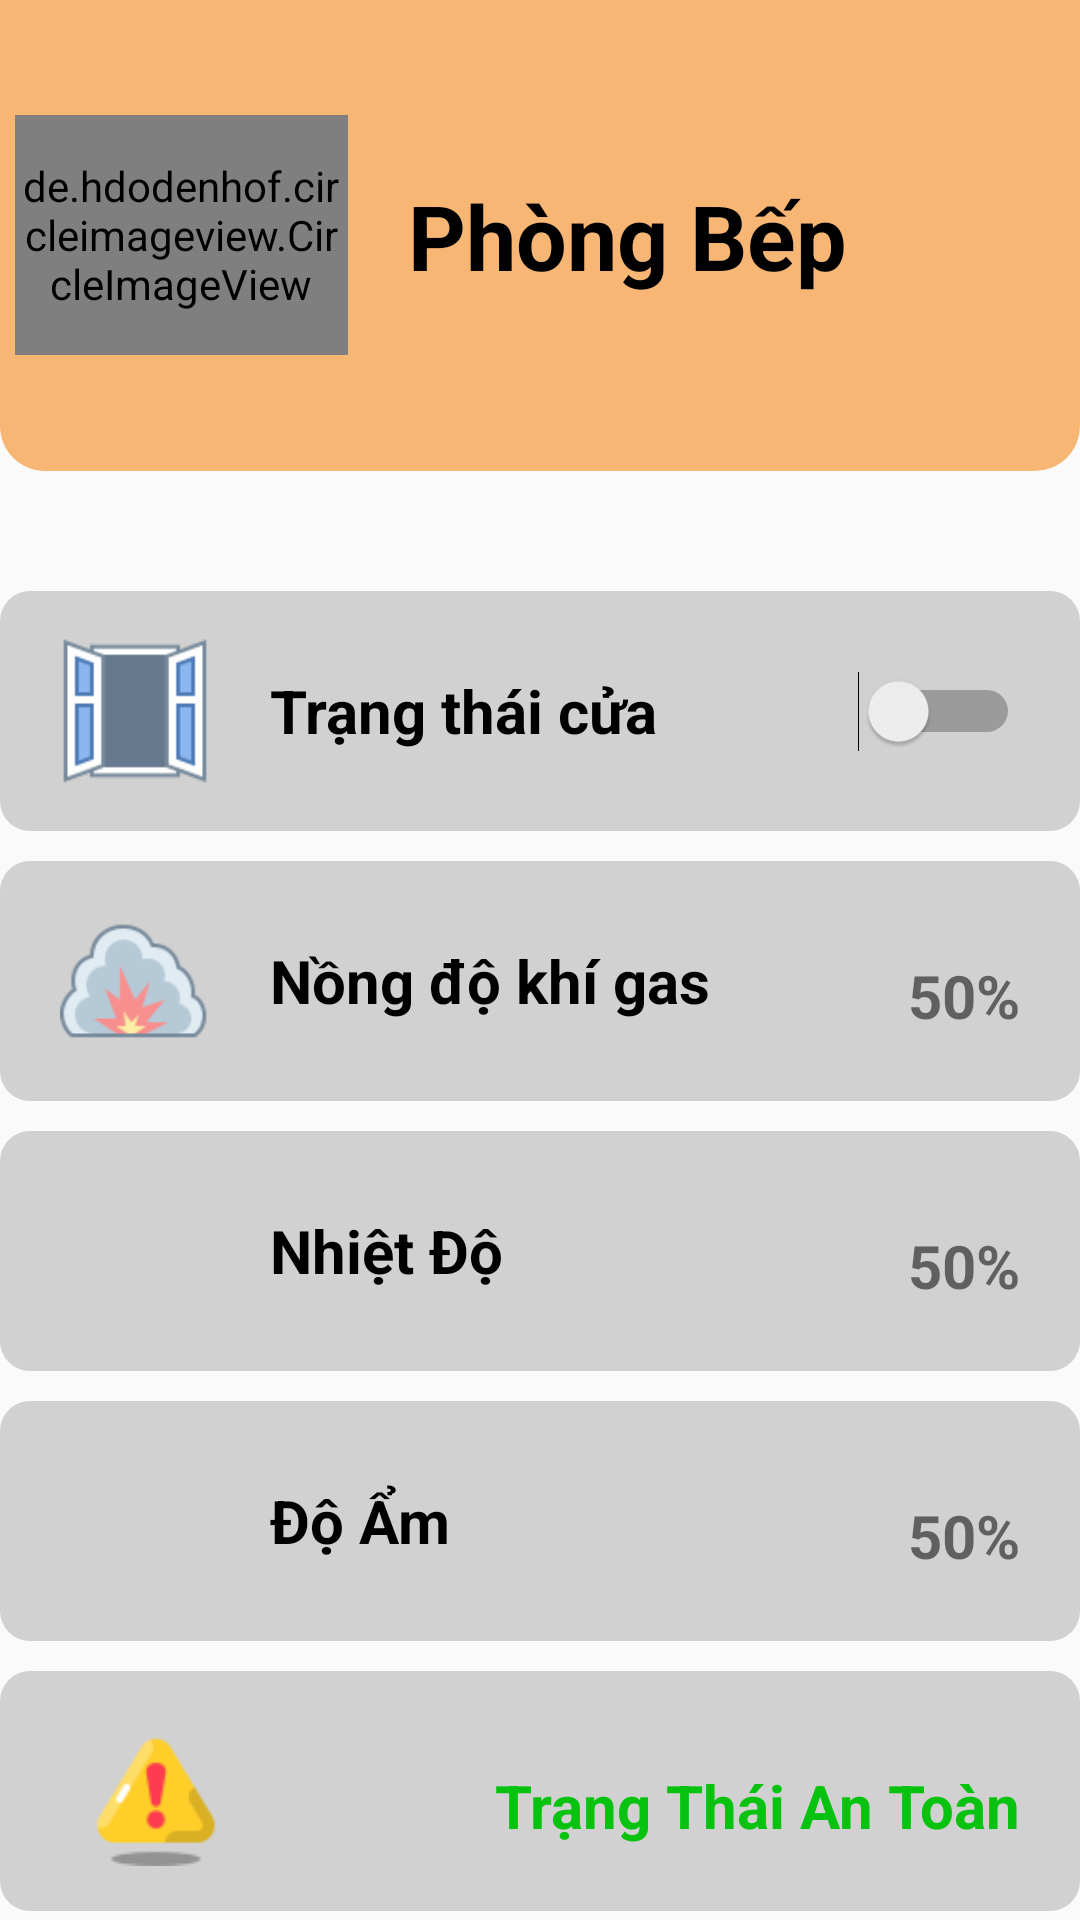

Icons on this 1080px x 1920px Android screen, each with the point to tap as (x=x, y=y):
smoke: (x=133, y=981)
warning: (x=156, y=1802)
window: (x=135, y=711)
